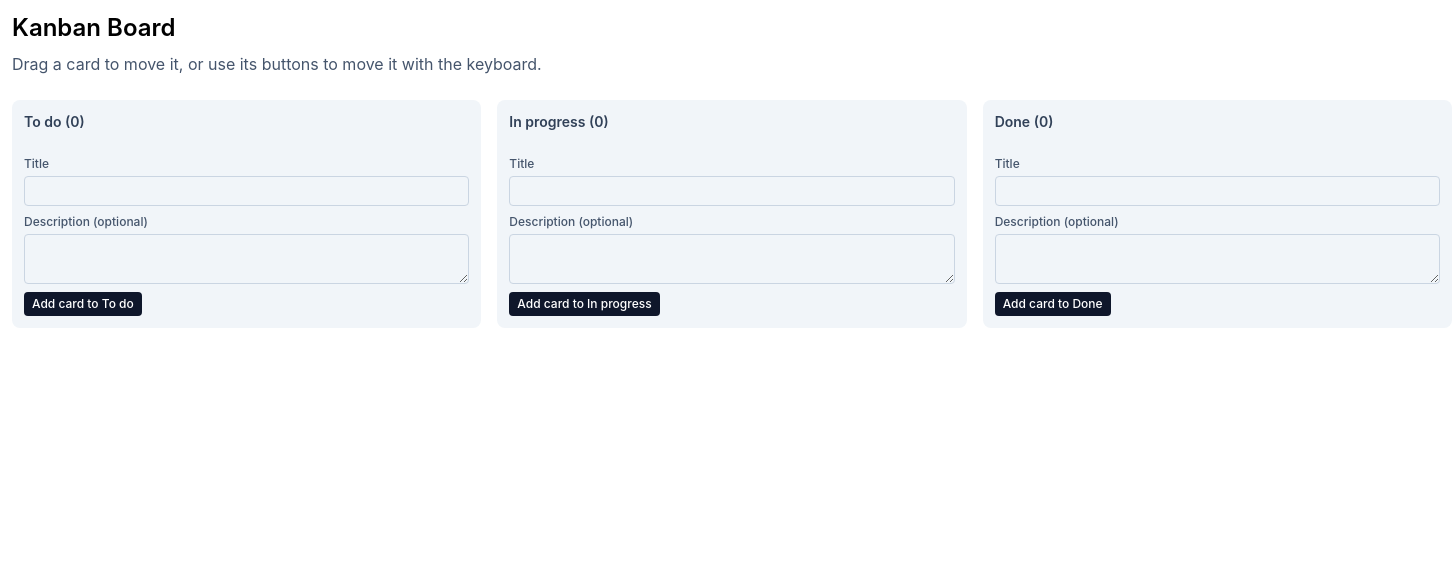
Test case: reorders cards within a column using move up and move down
The image size is (1452, 573).
Type "First" into the 1st field labelled "Title" at (247, 191), box [24,176,469,206]
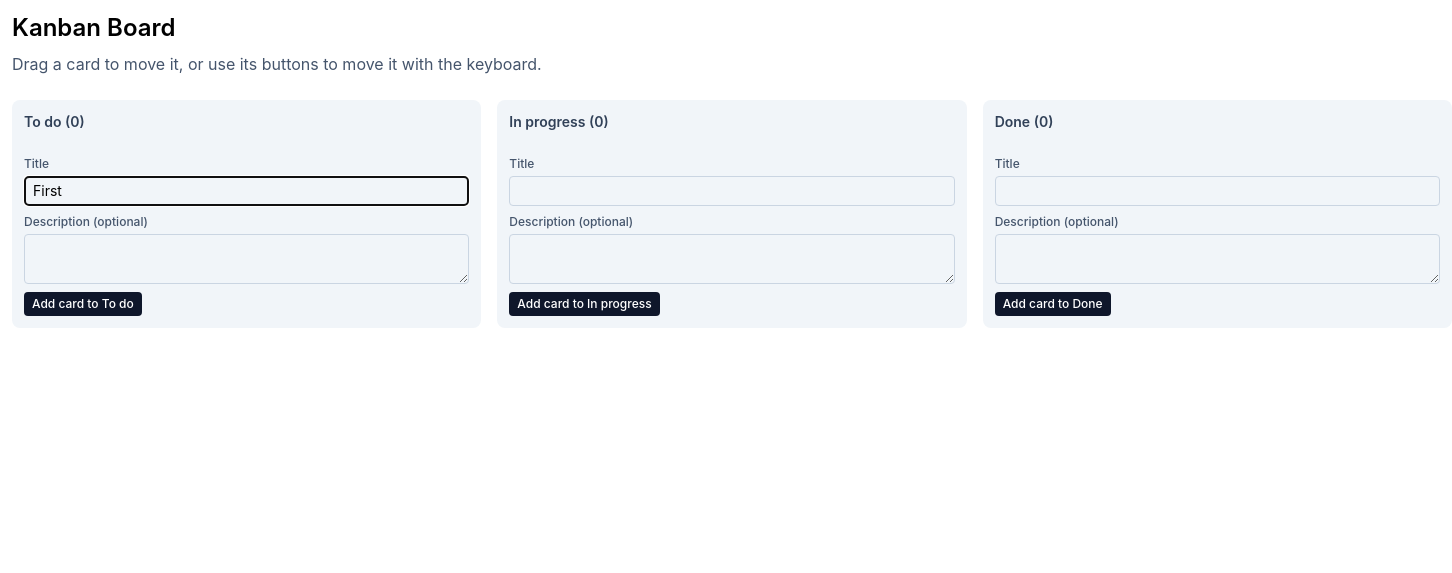
Click the button "Add card to To do" at (83, 304), box [24,292,142,316]
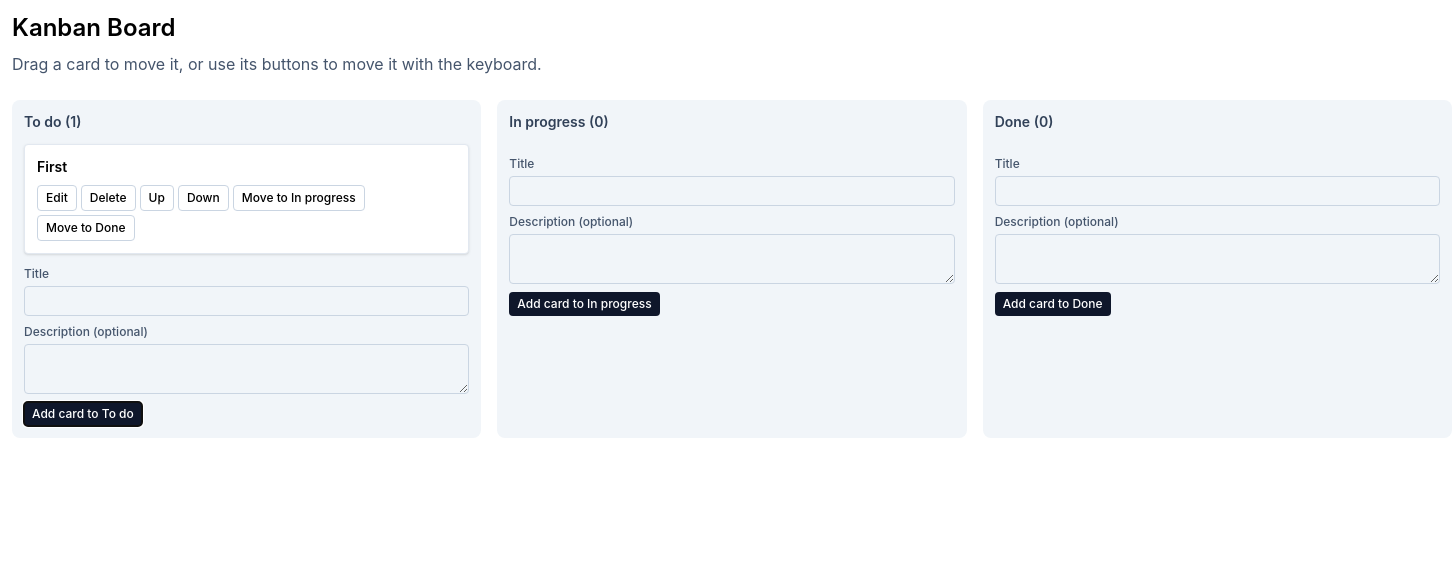
Type "Second" into the field labelled "Title" below "First" at (247, 301), box [24,286,469,316]
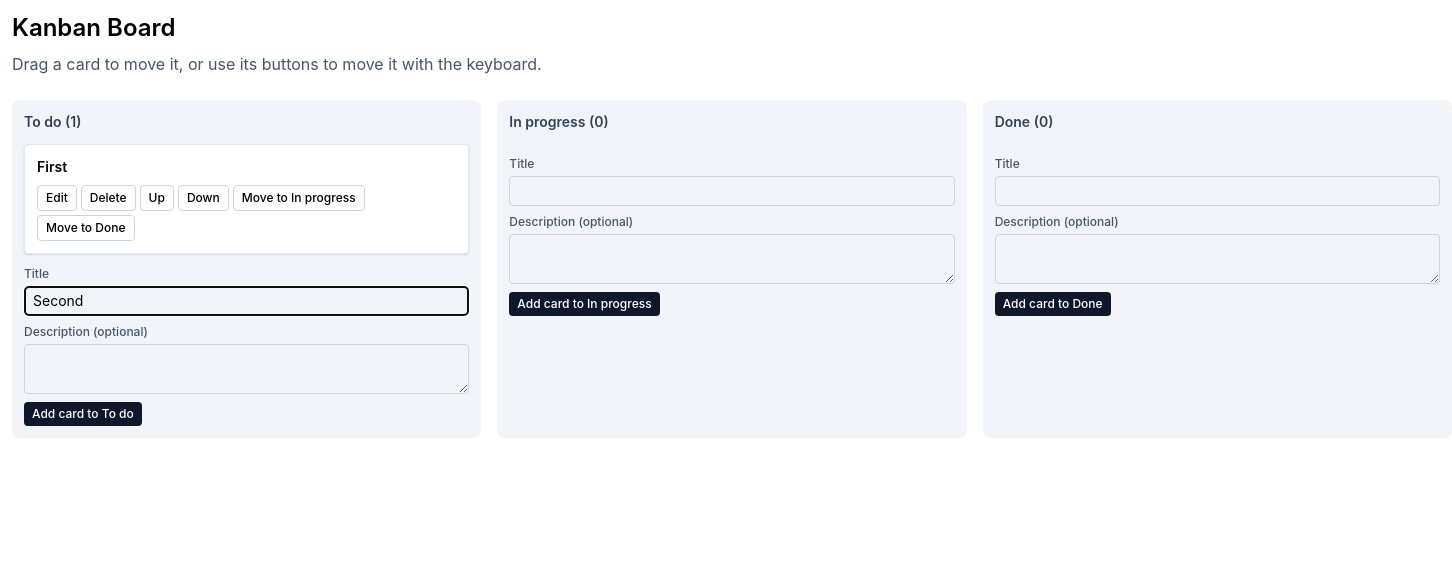
Click the button "Add card to To do" at (83, 414), box [24,402,142,426]
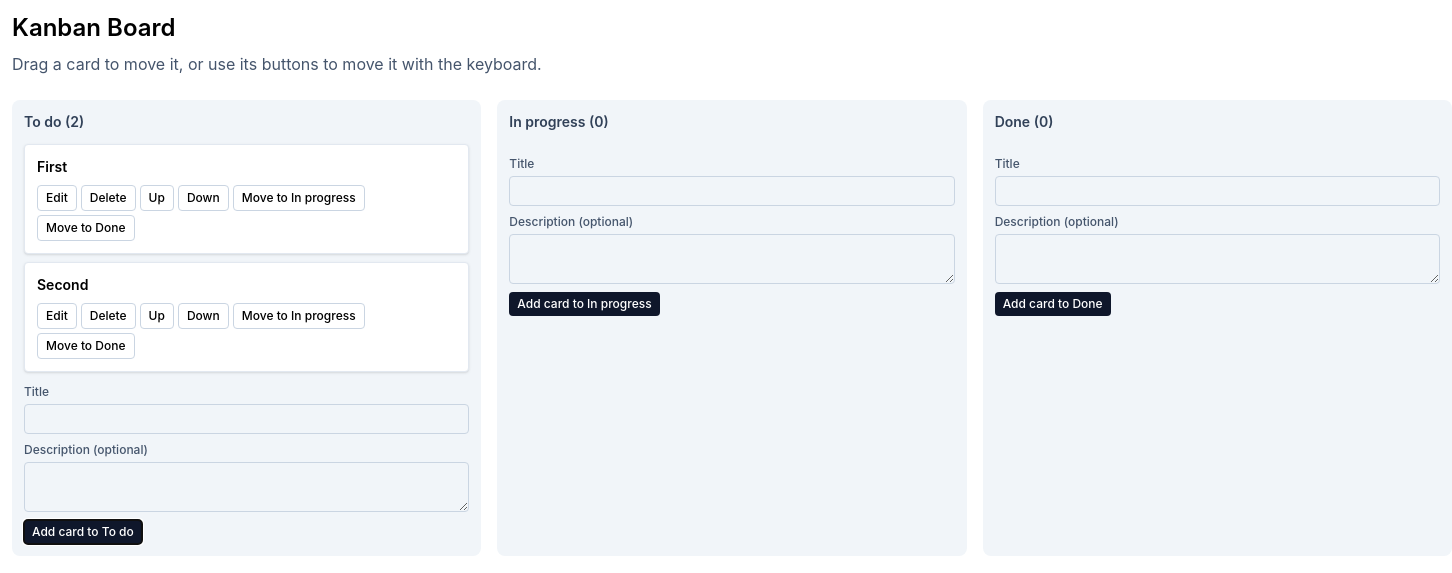
expect the headings read "First", "Second", in this order: met, box [37,158,67,175]; [37,276,88,293]
Click the button named "Move \"Second\" up" at (157, 316), box [140,303,174,329]
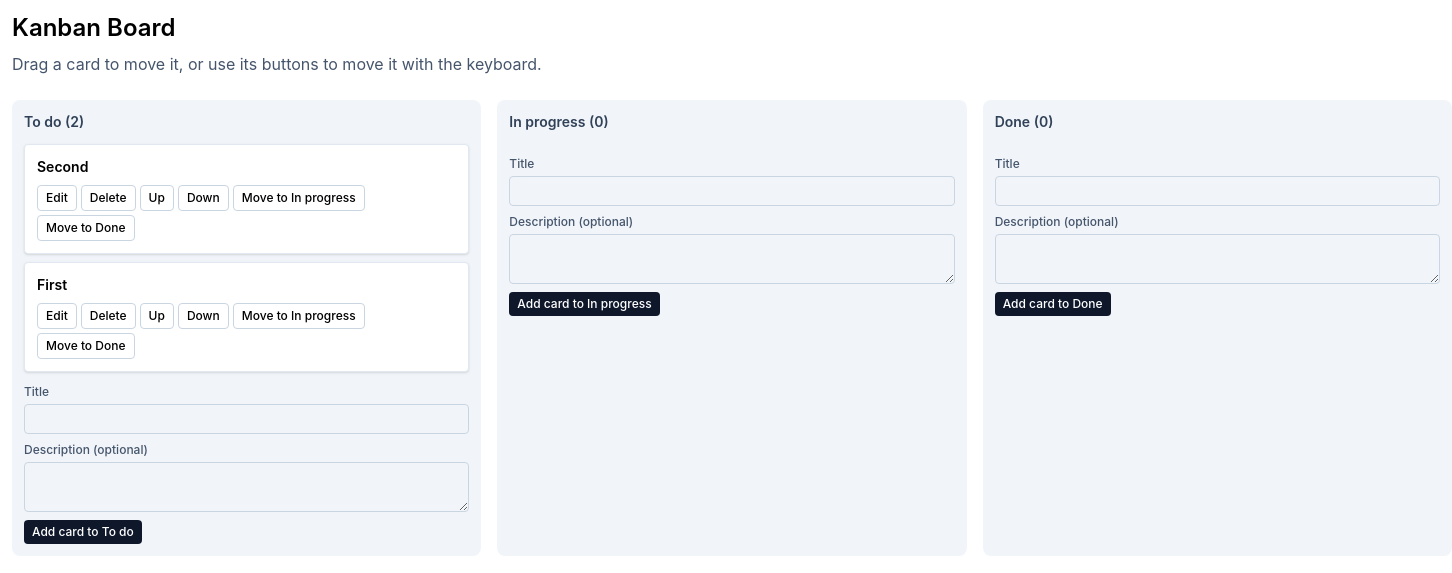
expect the headings read "Second", "First", in this order: met, box [37,158,88,175]; [37,276,67,293]
Click the button named "Move \"Second\" down" at (203, 198), box [178,185,229,211]
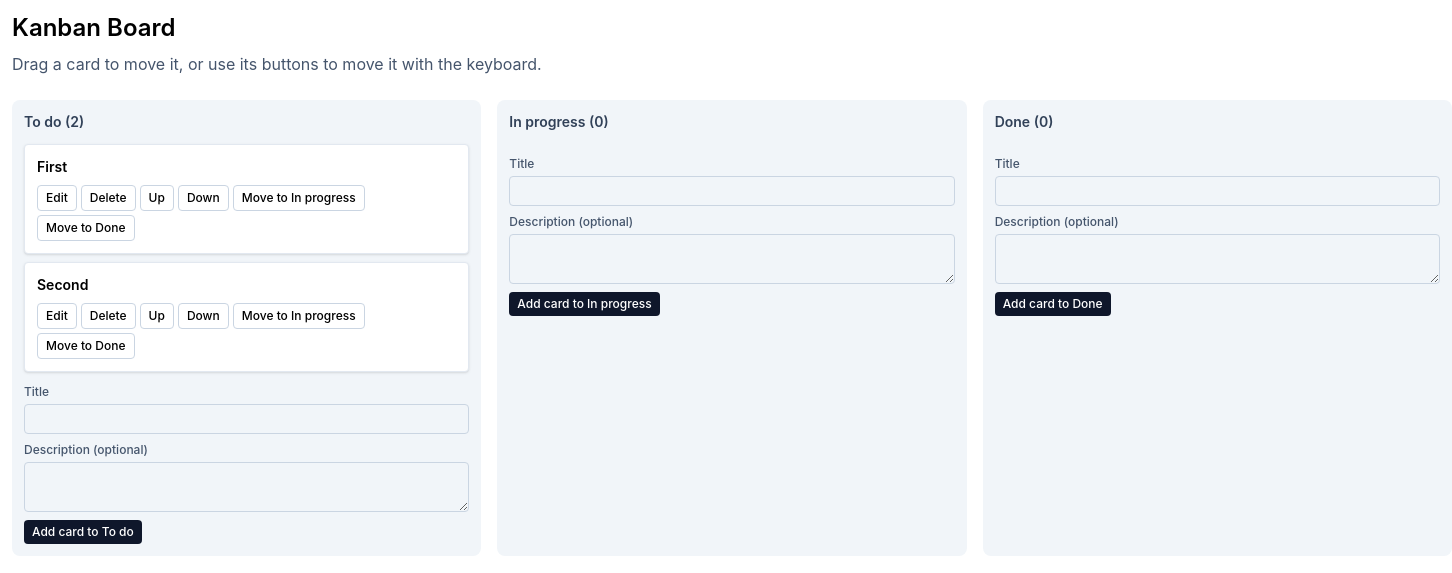
expect the headings read "First", "Second", in this order: met, box [37,158,67,175]; [37,276,88,293]
